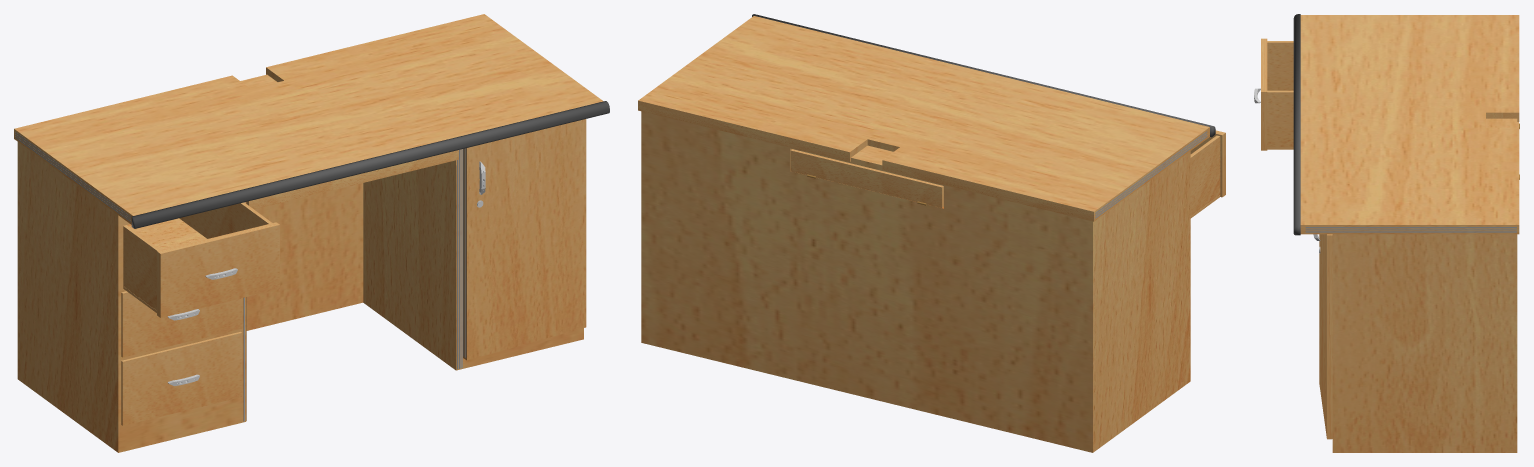
File: Front desk.fbx
The picture shows the model from 3 angles, left to right: view 1: azimuth 30°, elevation 25°; view 2: azimuth 150°, elevation 25°; view 3: azimuth 270°, elevation 25°; orthographic projection. The views are drawn at different scales.
Parts seen in each view (by area): view 1: Top cover, Desk, Desk right door, Desk right door.002, Desk right door.001, Desk left door.002, Desk left door, Top cover.001, Desk left door.001, Desk left door.005, Cube.001, Desk left door.004 (+1 smaller); view 2: Desk, Top cover, Cube.003, Desk left door.005, Top cover.001; view 3: Top cover, Desk, Desk right door, Top cover.001, Desk left door.004, Desk left door.005, Desk left door.002, Desk right door.016, Desk right door.014, Desk right door.015.
Boxes of the visible parts, x1,y1,x2,y2 form: Top cover: (14,14,603,224); Desk: (17,74,583,452); Desk right door: (463,119,586,360); Desk right door.002: (363,160,455,369); Desk right door.001: (246,183,363,330); Desk left door.002: (157,222,279,317); Desk left door: (121,331,242,425); Top cover.001: (131,101,609,228); Desk left door.001: (121,291,242,357); Desk left door.005: (123,225,160,310); Cube.001: (246,150,458,209); Desk left door.004: (179,202,272,238); Desk: (641,111,1190,452); Top cover: (638,16,1209,221); Cube.003: (790,149,943,207); Desk left door.005: (1190,135,1220,215); Top cover.001: (752,14,1215,137); Top cover: (1300,15,1519,234); Desk: (1332,118,1517,452); Desk right door: (1319,234,1332,439); Top cover.001: (1293,14,1300,235); Desk left door.004: (1267,90,1293,147); Desk left door.005: (1267,41,1293,90); Desk left door.002: (1261,38,1267,150); Desk right door.016: (1305,231,1516,232); Desk right door.014: (1305,227,1516,228); Desk right door.015: (1305,229,1516,230).
Bounding box in the file's own units: 815 × 411 × 432.
